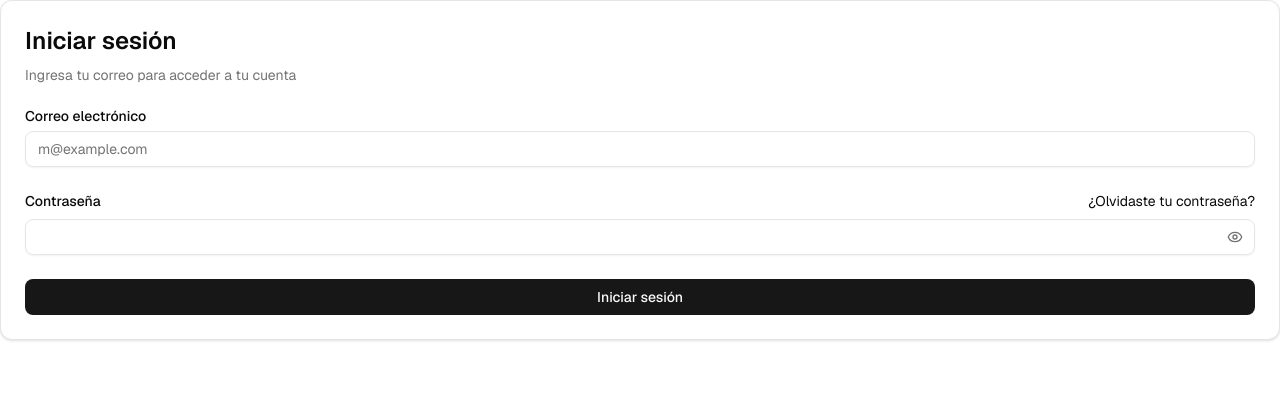
LoginForm › displays error message when action returns error
The width and height of the screenshot is (1280, 402).
Type "wrong@test.com" into the field labelled "Correo electrónico" at (640, 149), box [25,131,1255,167]
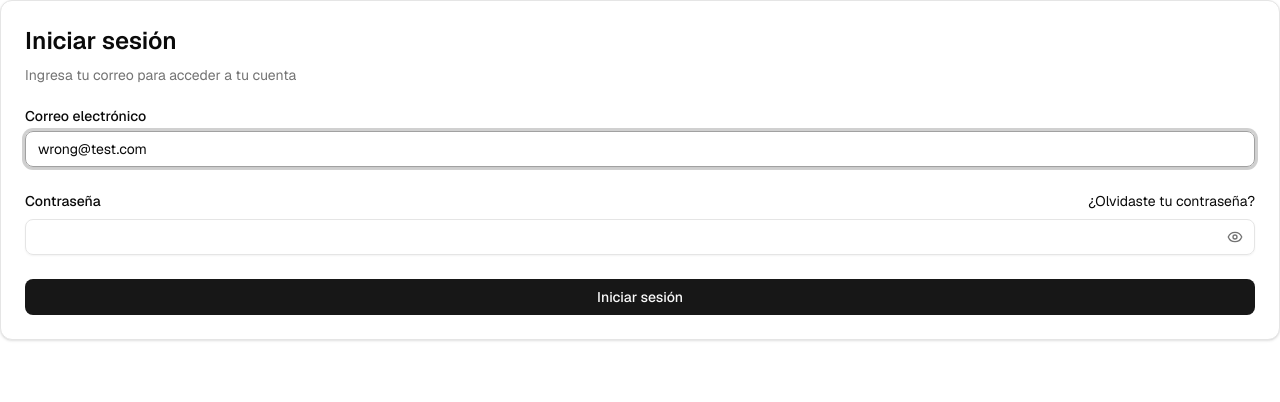
Type "badpass" into the password field labelled "Contraseña" at (640, 237), box [25,219,1255,255]
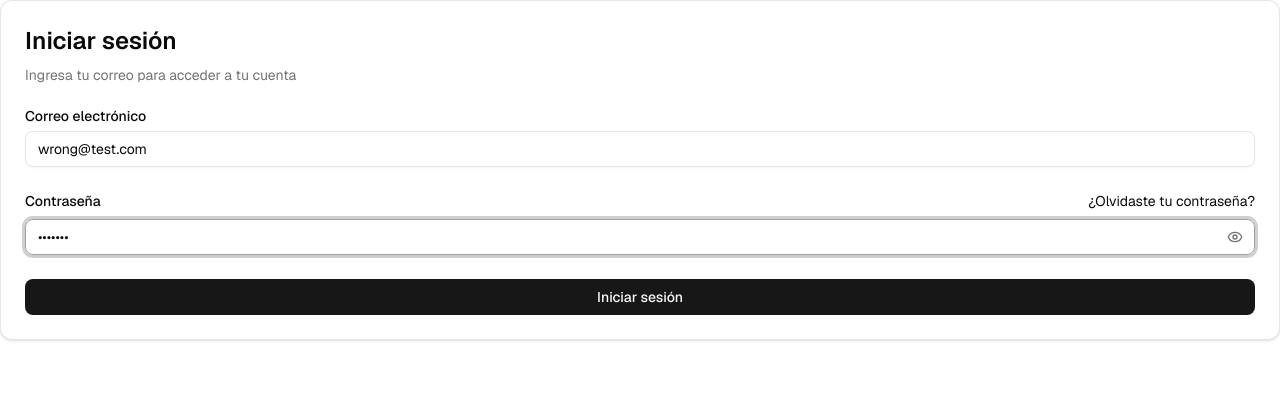
Click the button "Iniciar sesión" at (640, 297), box [25,279,1255,315]
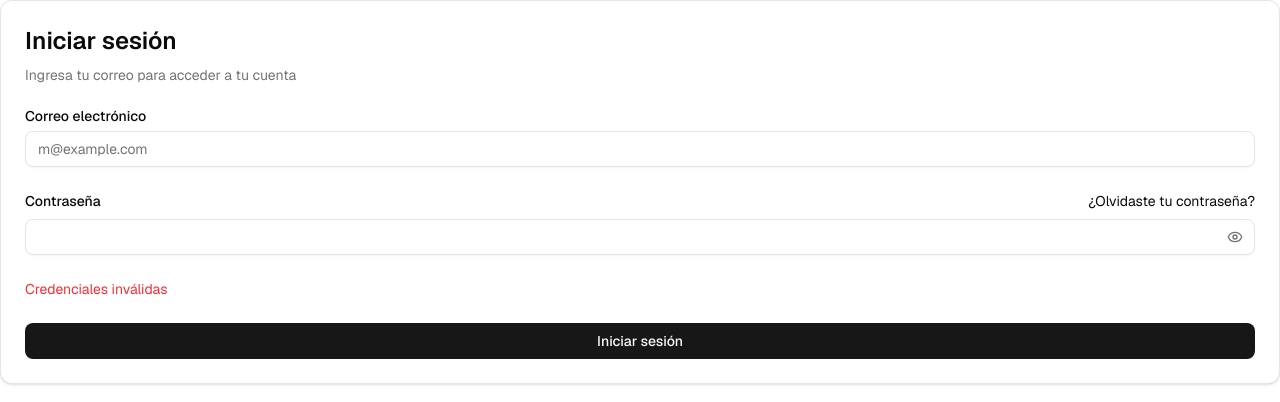
Check: the text "Credenciales inválidas" is shown, box [25,280,168,298]
